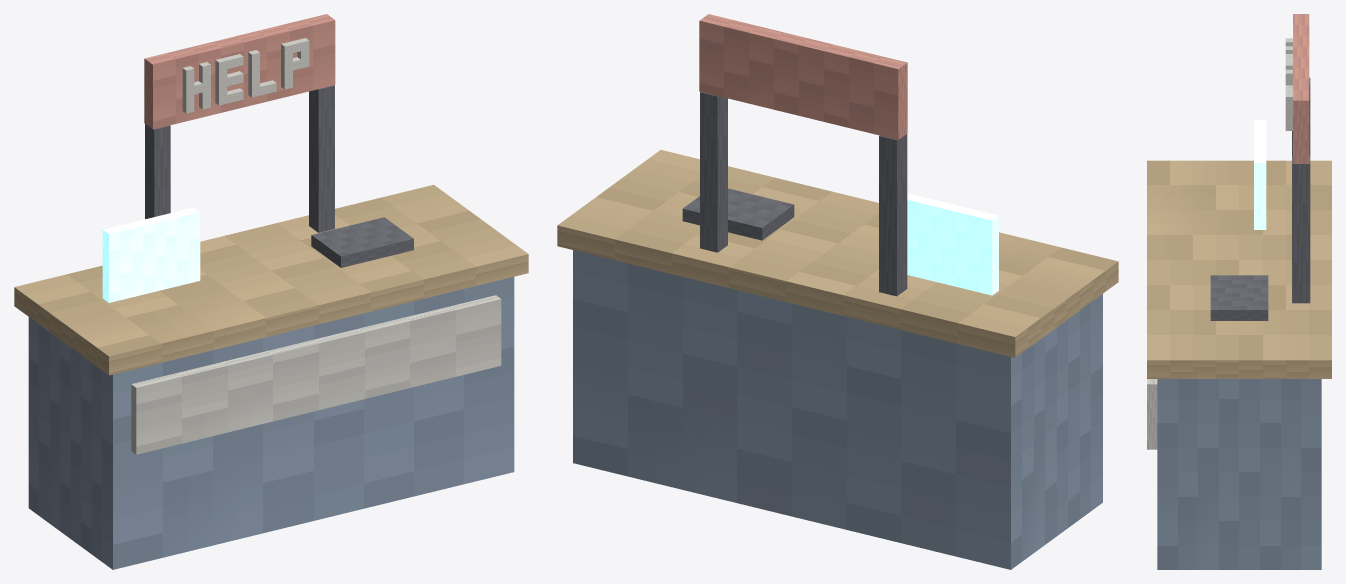
The model's file is service-desk.glb.
The picture shows the model from 3 angles, left to right: view 1: azimuth 30°, elevation 25°; view 2: azimuth 150°, elevation 25°; view 3: azimuth 270°, elevation 25°; orthographic projection. The views are drawn at different scales.
Parts seen in each view (by area): view 1: customer-service-desk; view 2: customer-service-desk; view 3: customer-service-desk.
Boxes of the visible parts, <box> form: customer-service-desk: <box>14,14,528,569</box>; customer-service-desk: <box>557,14,1118,569</box>; customer-service-desk: <box>1147,14,1331,569</box>.
Bounding box in the file's own units: 2.3 × 2.24 × 0.8999.
6 materials, 6 textured.
